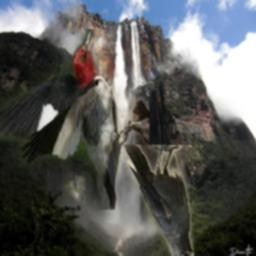Crow: (124, 145, 195, 256)
Woodpecker: (0, 30, 150, 211)
